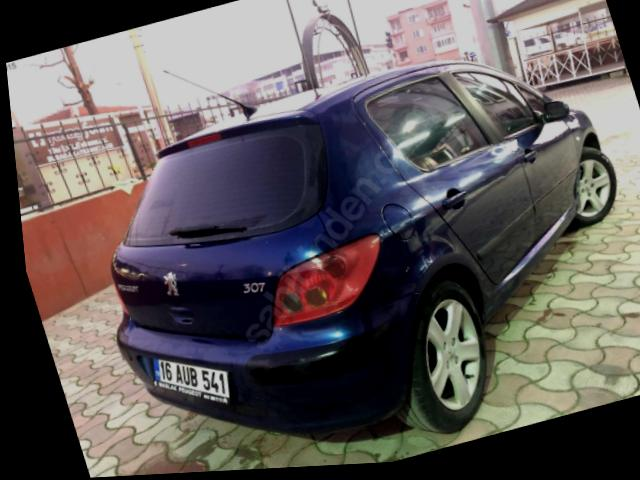plaka: (152, 359, 230, 404)
